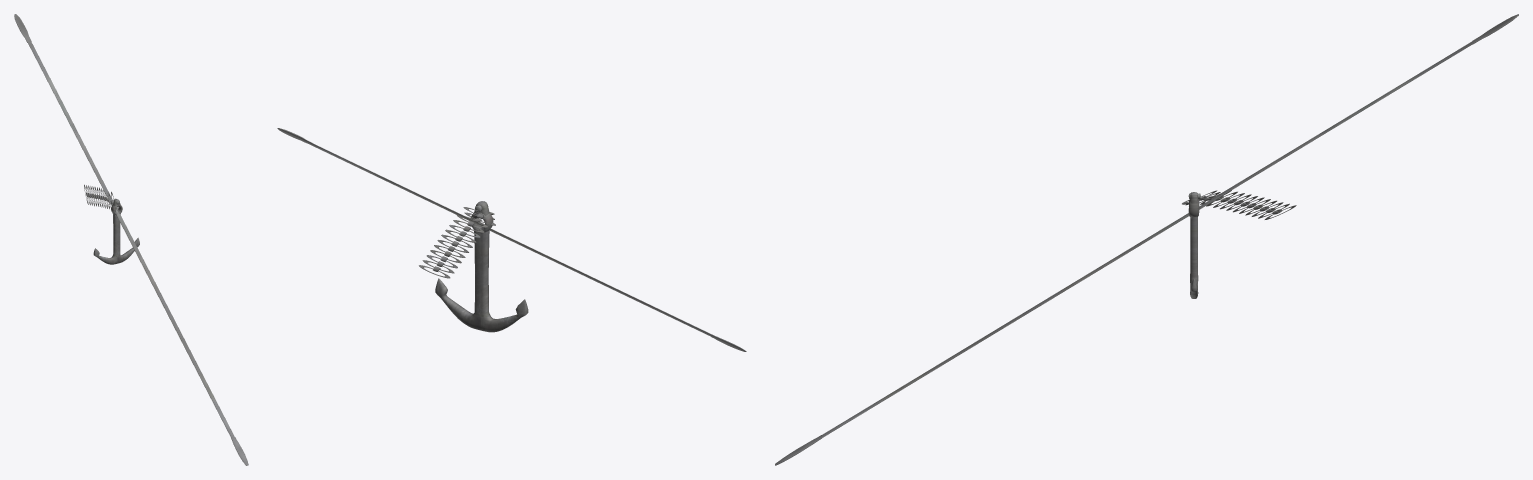
Rendered from anchor.fbx.
The picture shows the model from 3 angles, left to right: view 1: azimuth 30°, elevation 25°; view 2: azimuth 150°, elevation 25°; view 3: azimuth 270°, elevation 25°; orthographic projection. The views are drawn at different scales.
Parts seen in each view (by area): view 1: stock, anchor, chain; view 2: anchor, stock, chain; view 3: stock, chain, anchor.
Boxes of the visible parts, <box> form: stock: <box>14,14,248,465</box>; anchor: <box>93,199,139,264</box>; chain: <box>84,184,118,212</box>; anchor: <box>435,201,528,332</box>; stock: <box>277,128,746,351</box>; chain: <box>419,207,495,278</box>; stock: <box>775,14,1518,465</box>; chain: <box>1182,190,1296,219</box>; anchor: <box>1188,192,1199,298</box>.
Size of the model in its own units: 2.7 by 15.9 by 23.78.
